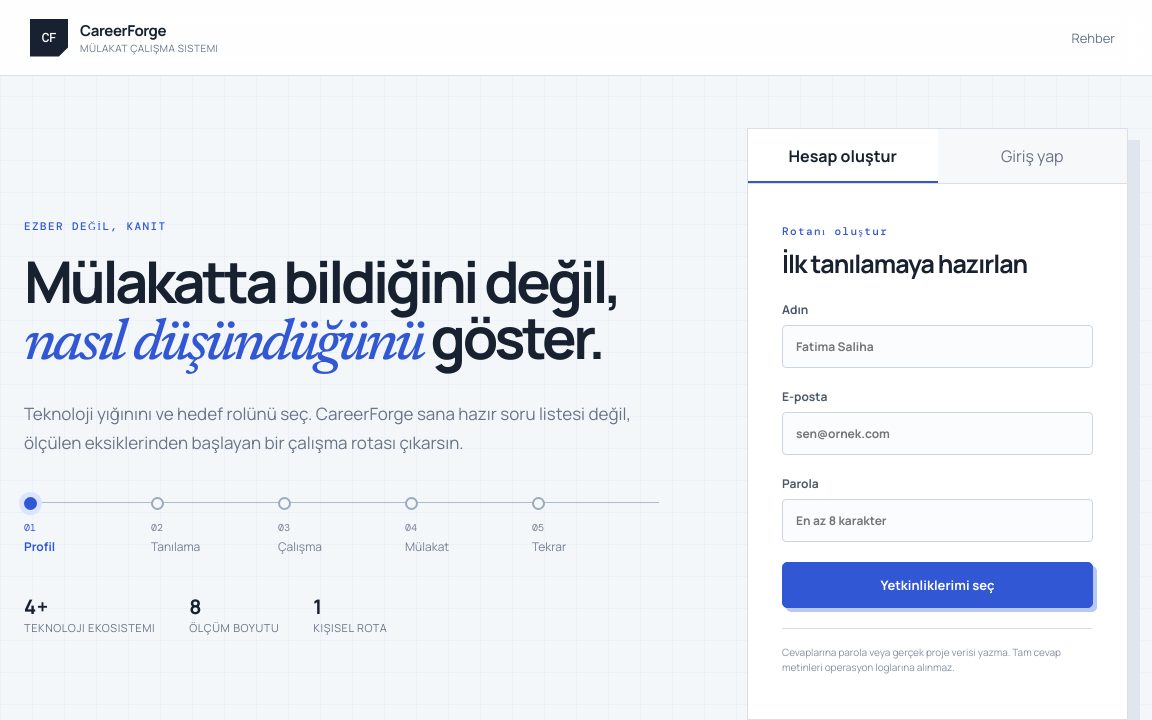
Test case: App › supports keyboard entry, semantic tabs and focus after screen changes
The image size is (1152, 720).
Press Tab
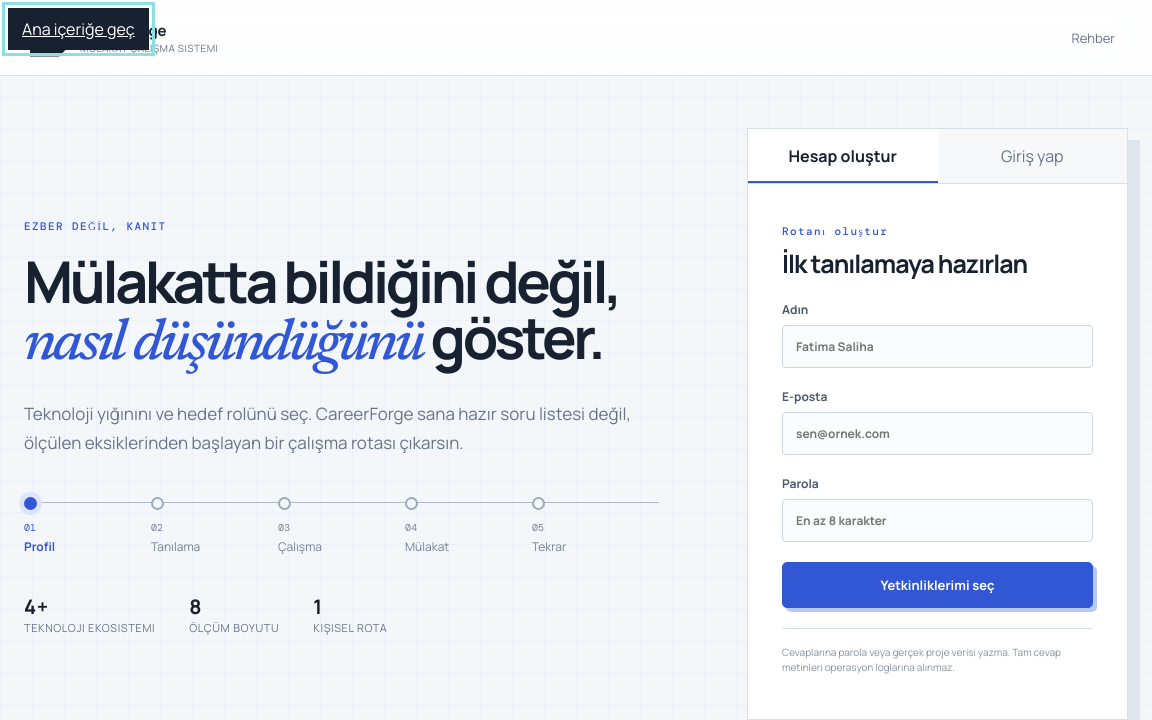
Click the link "Ana içeriğe geç" at (78, 29), box [8,8,149,50]
(page scrolled)
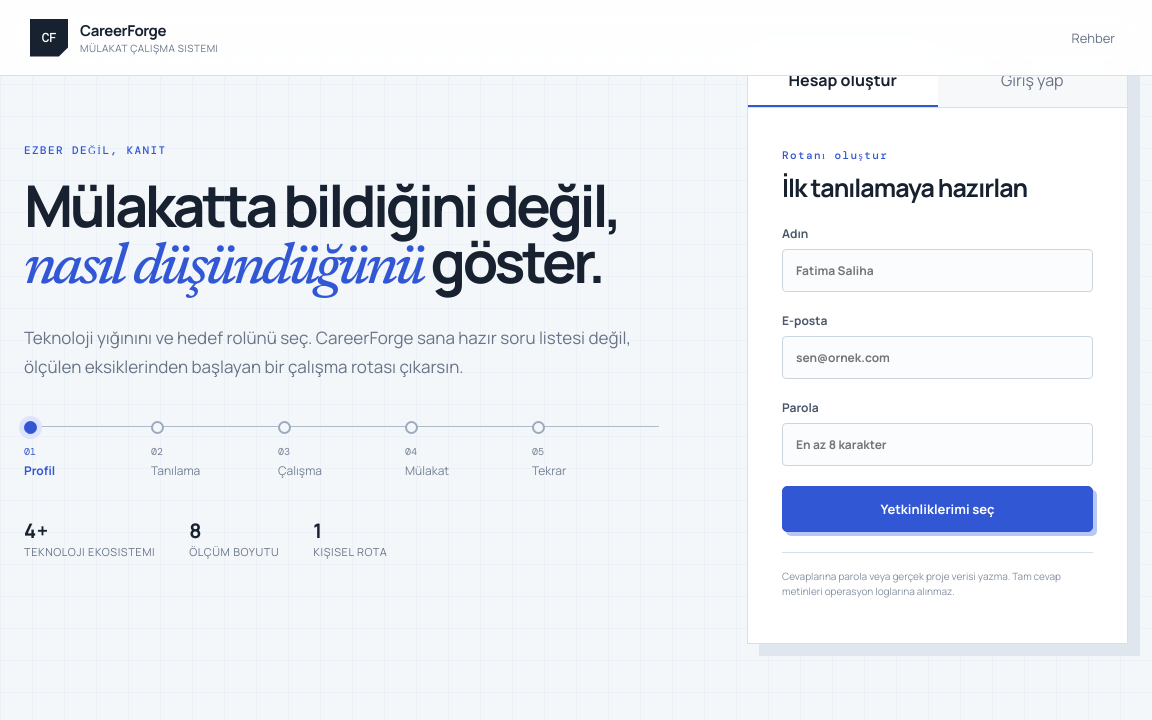
Click the tab "Giriş yap" at (1032, 80), box [938,53,1127,107]
(page scrolled)
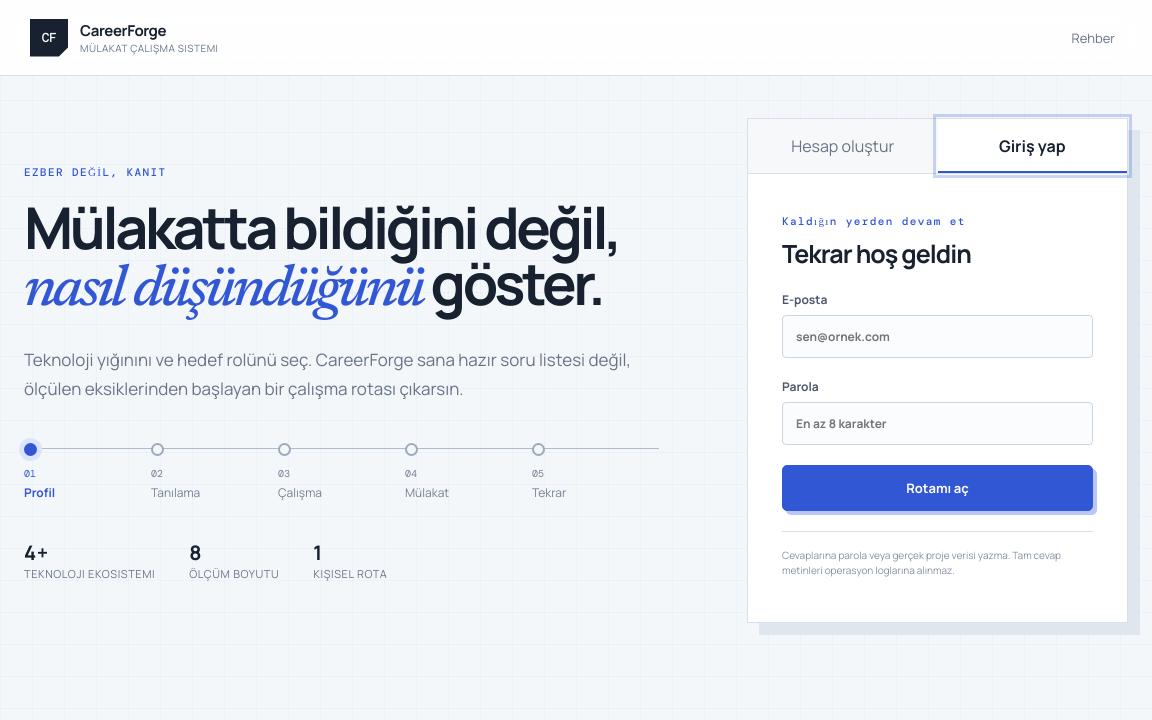
Check: the tab "Giriş yap" is selected, box [938,118,1127,172]
Click the button "Rehber" at (1093, 38), box [1058,18,1128,56]
(page scrolled)
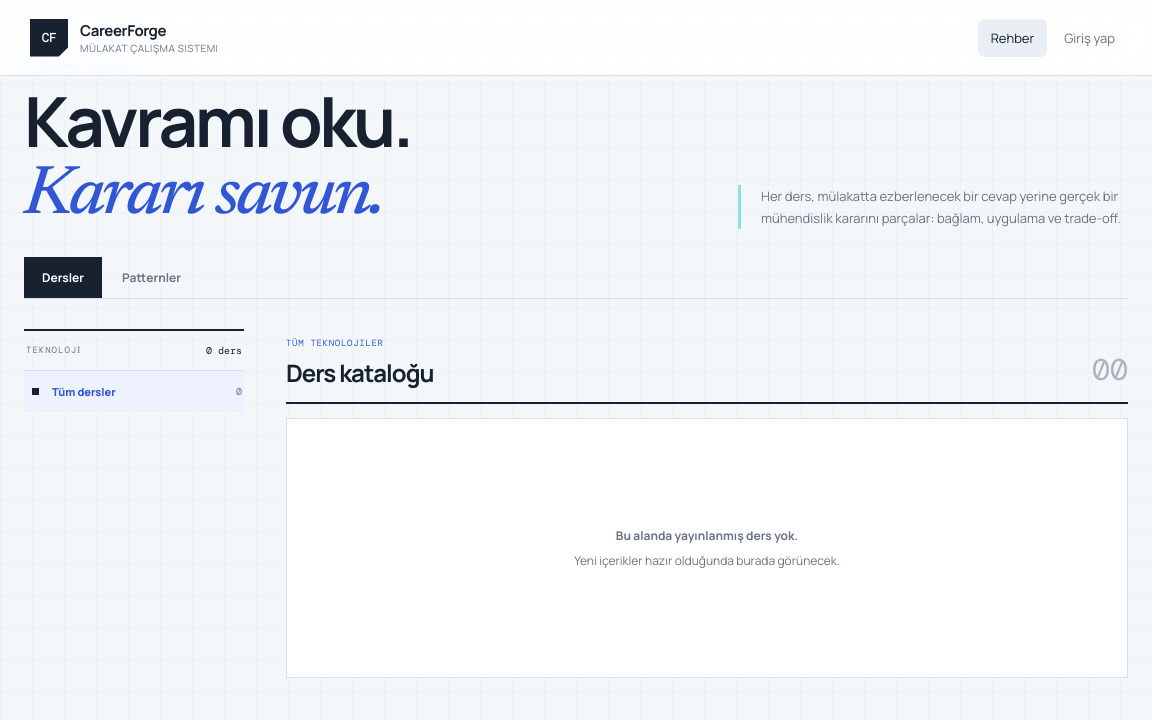
Check: the heading "Ders kataloğu" is shown, box [286,356,434,389]
